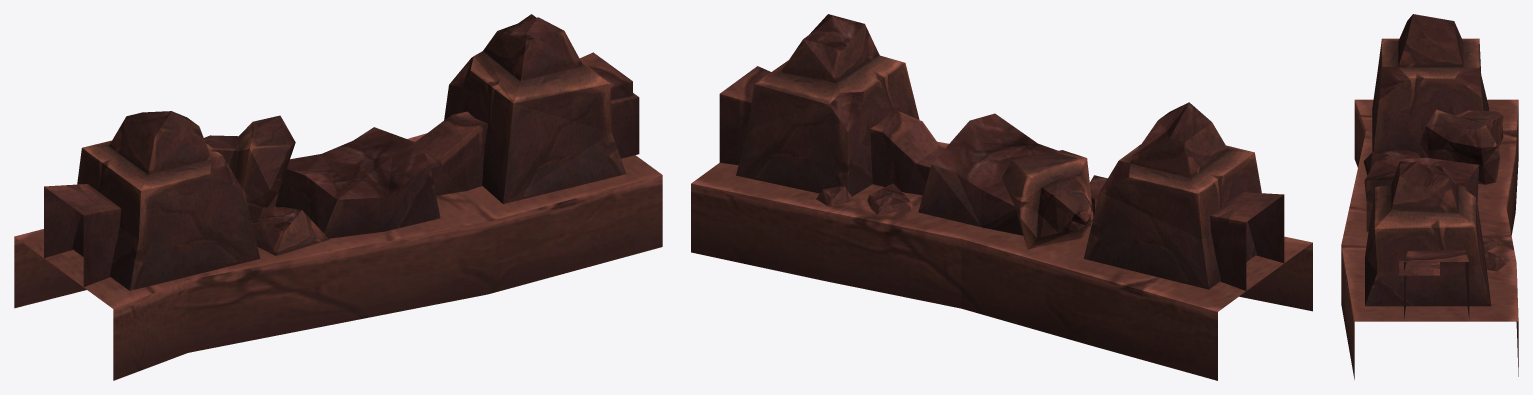
The model's file is lava_railing_straight_02.fbx.
3 renders of one model, left to right at view 1: azimuth 30°, elevation 25°; view 2: azimuth 150°, elevation 25°; view 3: azimuth 270°, elevation 25°, orthographic. The views are drawn at different scales.
Visible parts, largest first — view 1: obj1.028; view 2: obj1.028; view 3: obj1.028.
Boxes of the visible parts, x1,y1,x2,y2 form: obj1.028: [14, 14, 662, 380]; obj1.028: [691, 14, 1312, 380]; obj1.028: [1341, 14, 1518, 379].
Bounding box in the file's own units: 4.03 × 1.55 × 1.35.
